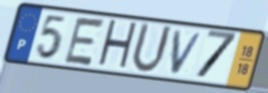5: (34, 14, 70, 61)
7: (196, 28, 240, 83)
E: (61, 15, 108, 68)
H: (94, 18, 140, 73)
U: (128, 21, 174, 76)
V: (169, 29, 206, 76)
